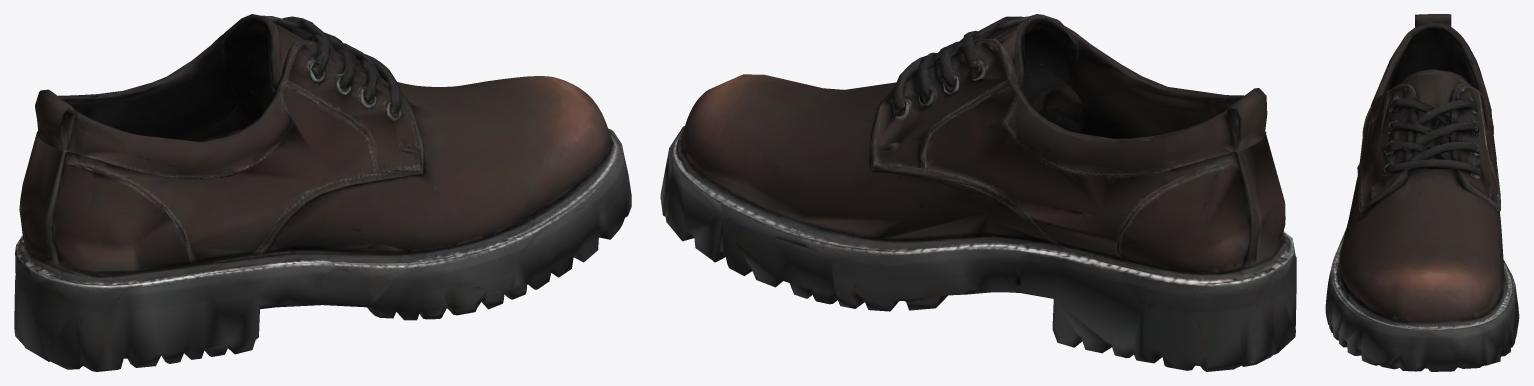
The model's file is derby.glb.
3 views of the same model, side by side, from view 1: azimuth 30°, elevation 25°; view 2: azimuth 150°, elevation 25°; view 3: azimuth 270°, elevation 25° (orthographic). The views are drawn at different scales.
Parts seen in each view (by area): view 1: node_0; view 2: node_0; view 3: node_0.
Part boxes in pixels (x1,y1,x2,y2): node_0: [14, 14, 631, 371]; node_0: [660, 14, 1296, 371]; node_0: [1325, 14, 1519, 371].
Bounding box in the file's own units: 1.1 × 0.4945 × 0.4307.
Materials: 1 (1 with a texture image).
